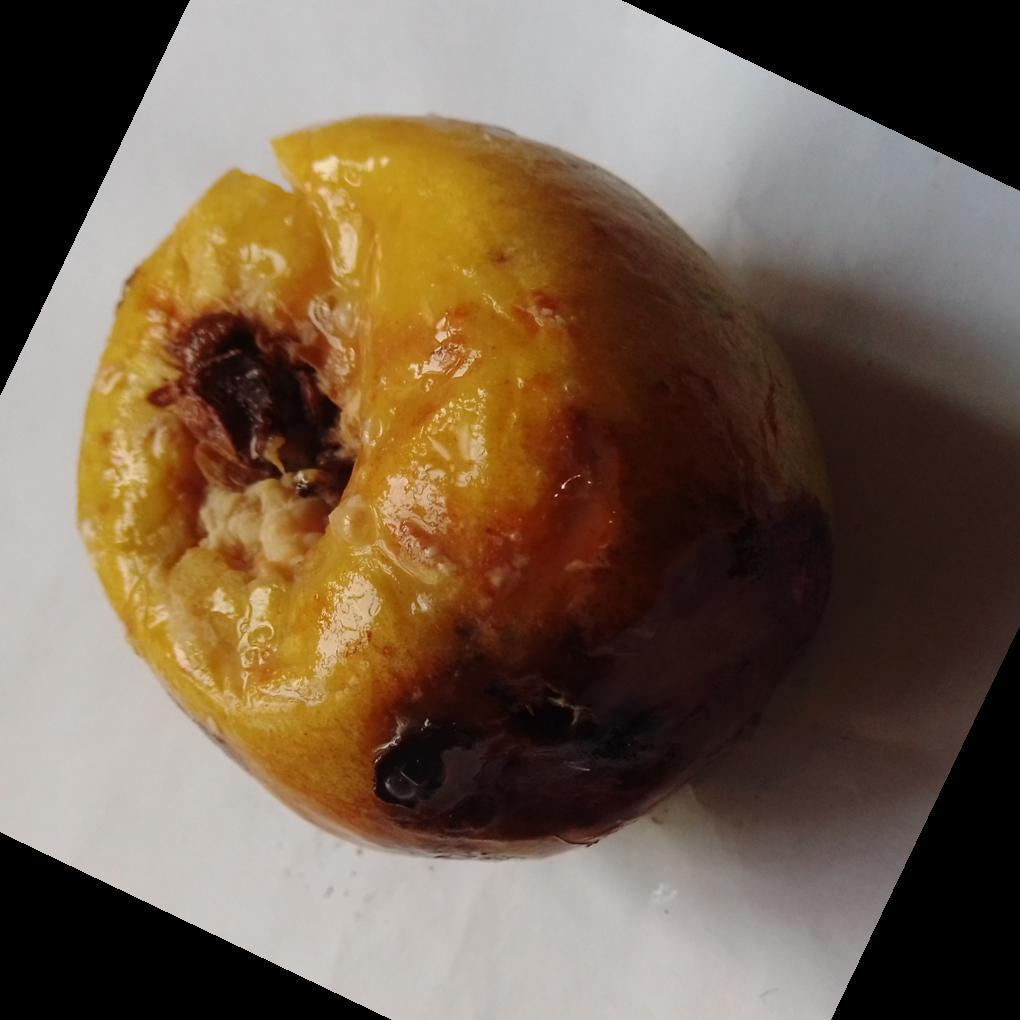FreshOrange: (74, 116, 836, 867)
